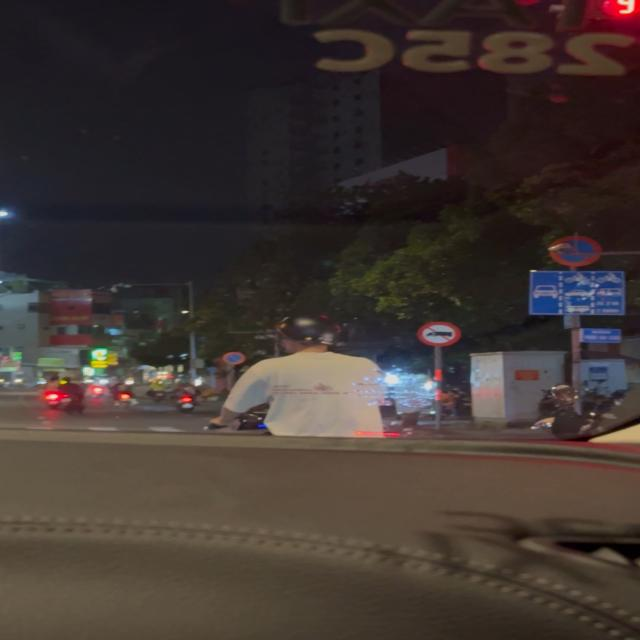Bien bao cam xe so-mi ro-mooc: (413, 321, 463, 349)
